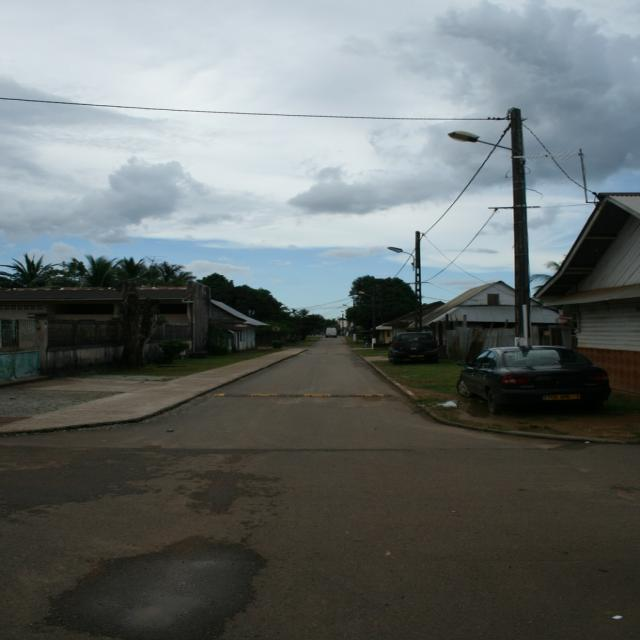car: (459, 341, 612, 421)
